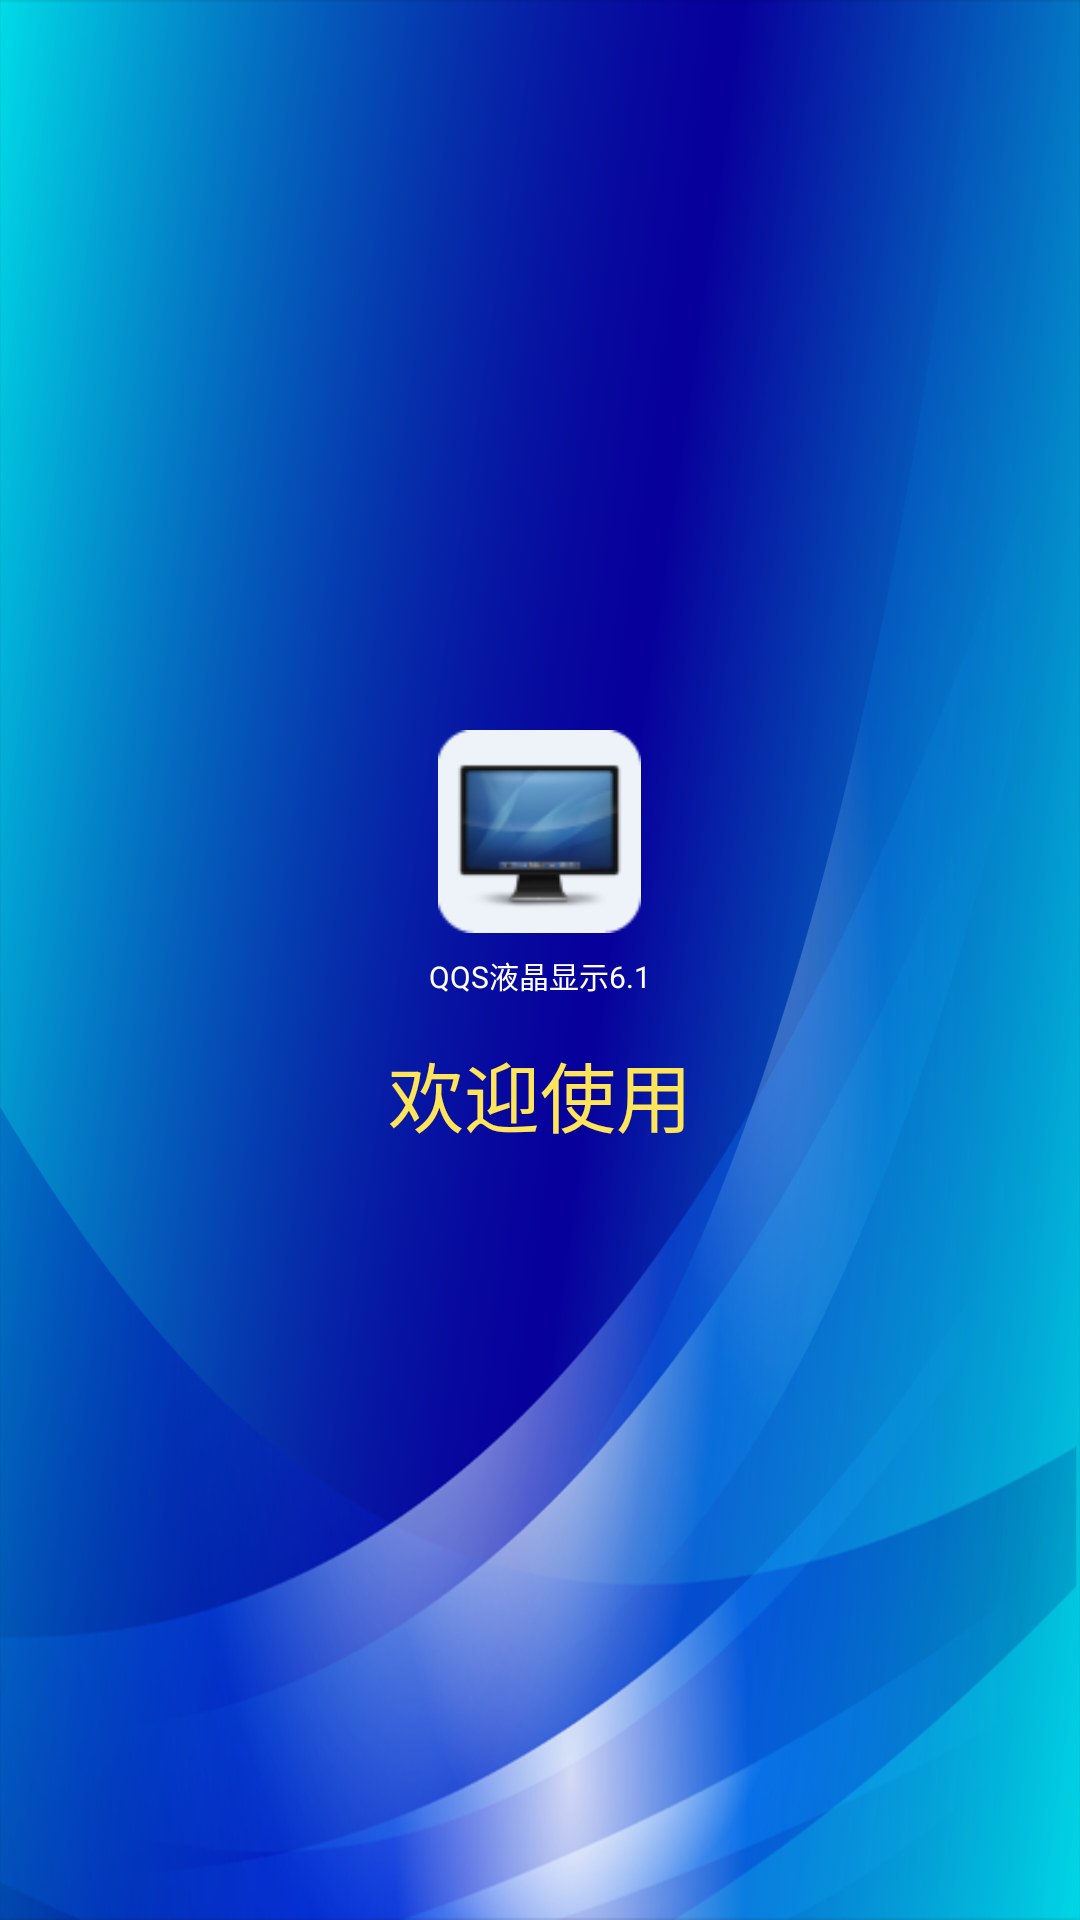

Screen size 1080px×1920px. Icon name, then its box in pixels as (x1, y1, x2, y2):
app: (438, 730, 641, 933)
